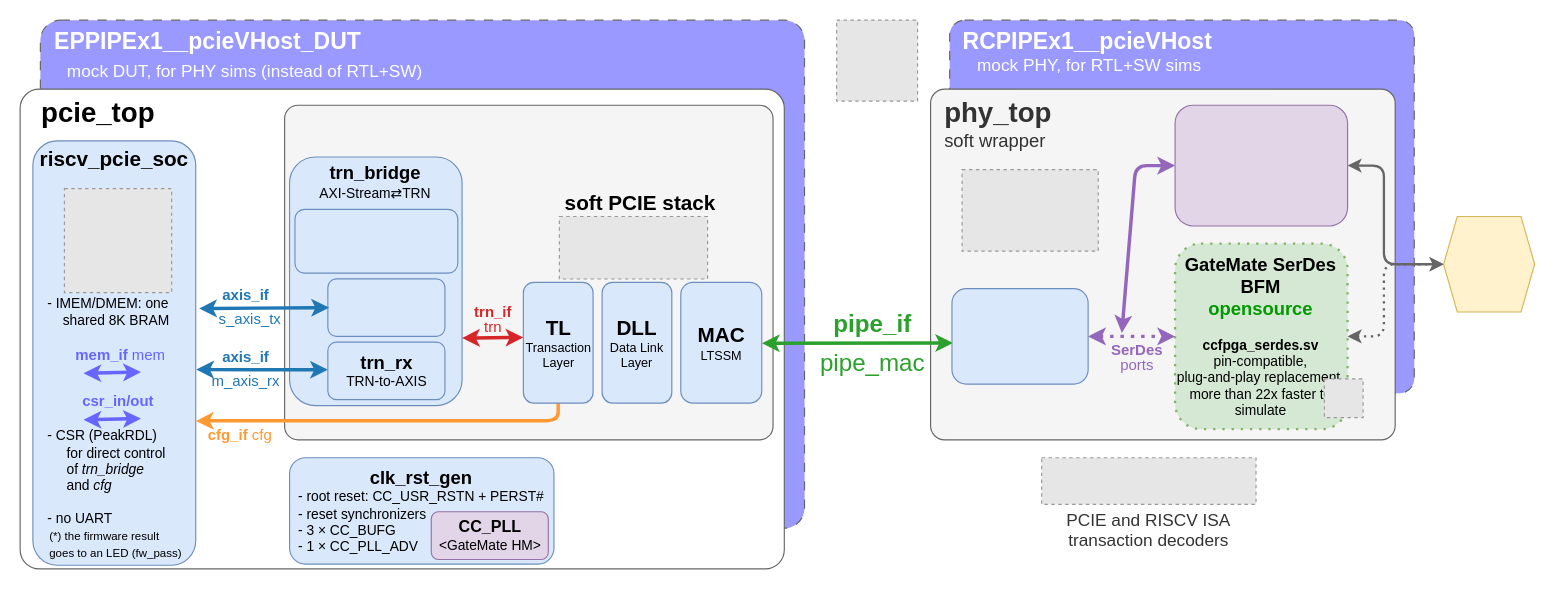
This 1555x590 diagram has some shape labels left out. Grey dashed boxes stand in for pictures. The box of each missing label's shape, as (x1, y1, x2, y2) in pixels:
CC_SERDES <GateMate HM> proprietary complete design at RTL level. Closed-source: (1174, 104, 1348, 226)
ccfpga_pipe_fsm thin adaptation layer by CologneChip <2.pipe/pipe_src>: (951, 288, 1088, 384)
pcie_core: (283, 104, 773, 440)
SerDes pins - TXP/N - RXP/N: (1442, 215, 1535, 312)
trn_tx AXIS-to-TRN: (327, 278, 445, 336)
trn_tx_throttle - Tx rate control - free Tx buffers: (294, 208, 458, 273)
